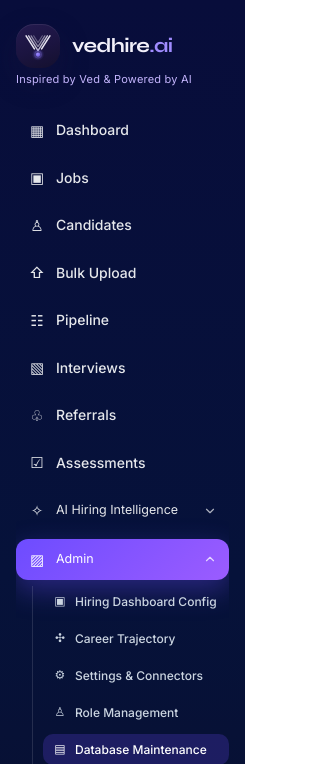
Scenario: SmartHiringSidebar › keeps Admin submenu collapsed after toggle on an admin route
Click the button "▨ Admin" at (122, 559), box left=16, top=539, right=229, bottom=580
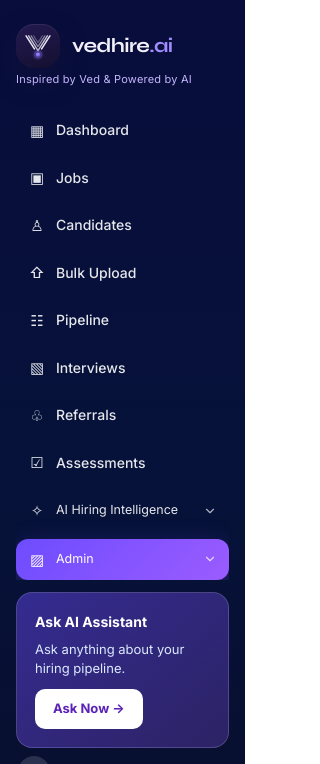
Now the button "▨ Admin" is collapsed, box left=16, top=539, right=229, bottom=580
Now the link with test id "nav-database-maintenance" is gone
